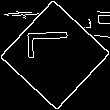L_E: (29, 39, 81, 71)
